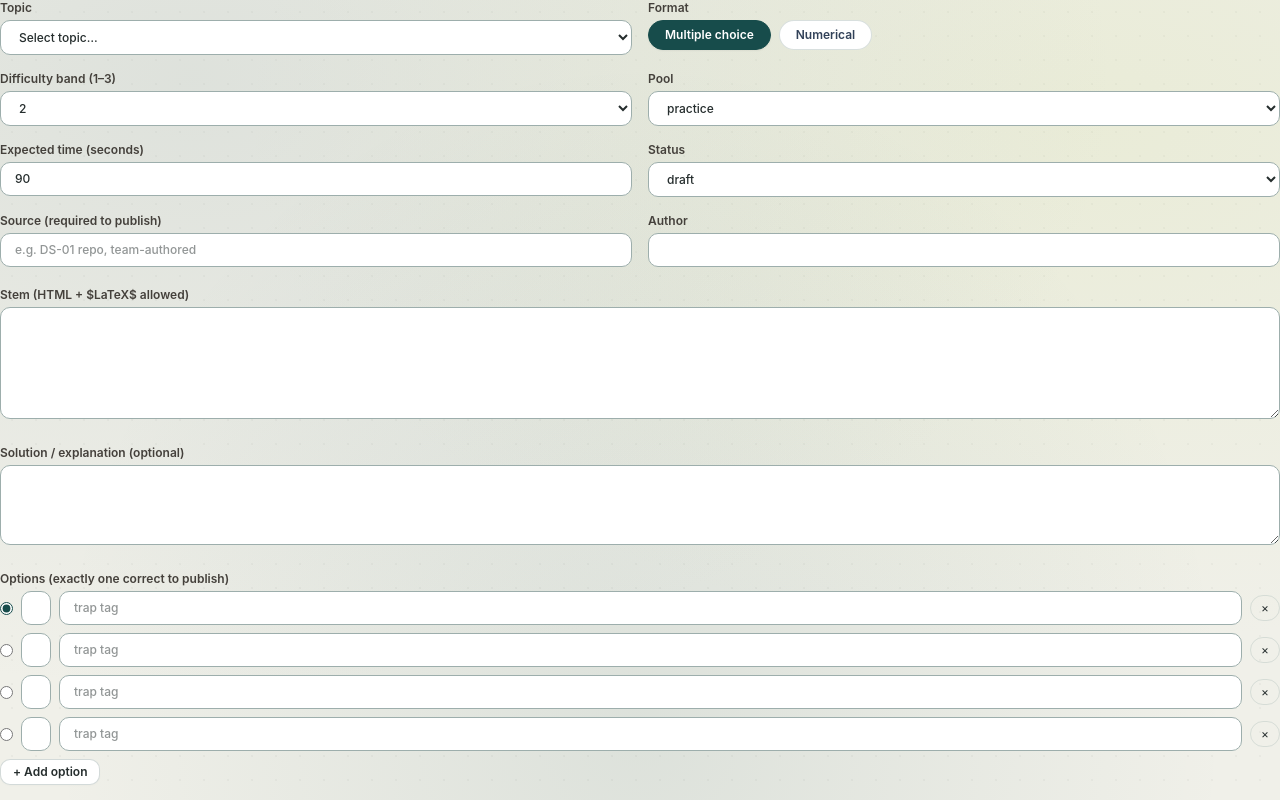
Test: QuestionEditor › renders create-mode fields and switches format sections
The width and height of the screenshot is (1280, 800).
Expected: the dropdown labelled "Topic" is shown, top-left (0, 20), bottom-right (632, 55)
Expected: the text box labelled "Stem (HTML + $LaTeX$ allowed)" is shown, top-left (0, 307), bottom-right (1279, 419)
Click the button "Numerical": (825, 35) top-left (779, 20), bottom-right (872, 50)
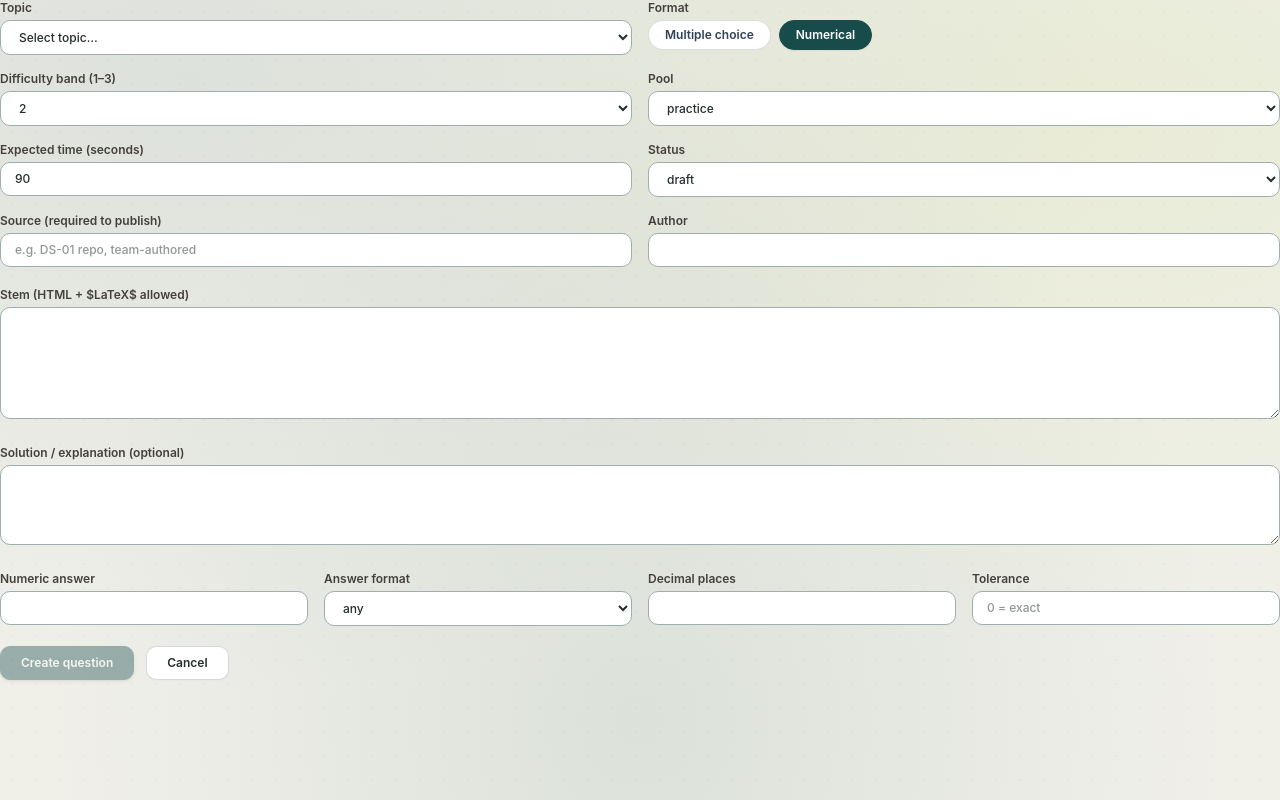
Result: the text "Options" is gone
Result: the text "Numeric answer" is shown at top-left (0, 571), bottom-right (95, 586)
